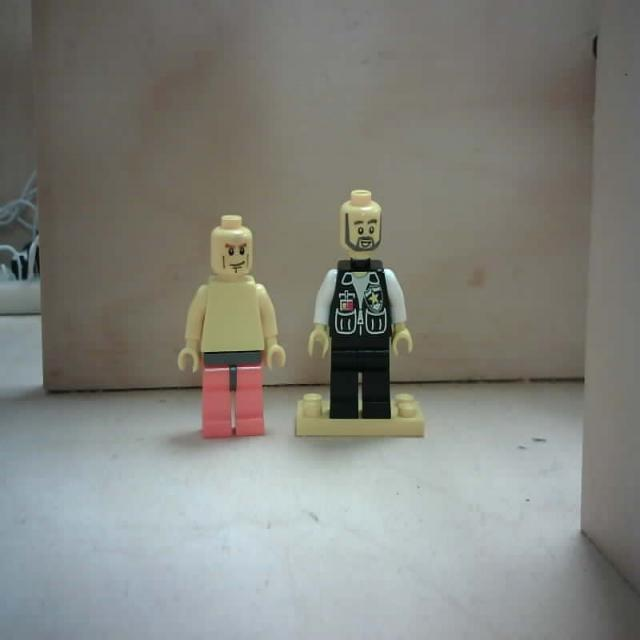Lego-People: (298, 189, 428, 439), (179, 213, 286, 439)
